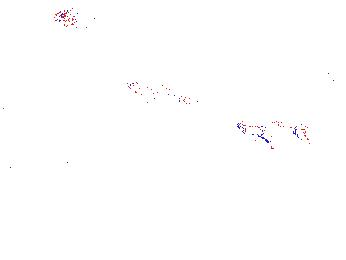X-ray fish: (53, 8, 101, 29)
glassfish: (1, 92, 68, 149)
red belly glassfish: (324, 67, 338, 84)
redtail glassfish: (233, 111, 314, 148), (127, 79, 191, 110)
